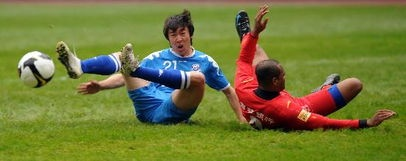falling: (221, 2, 398, 136)
